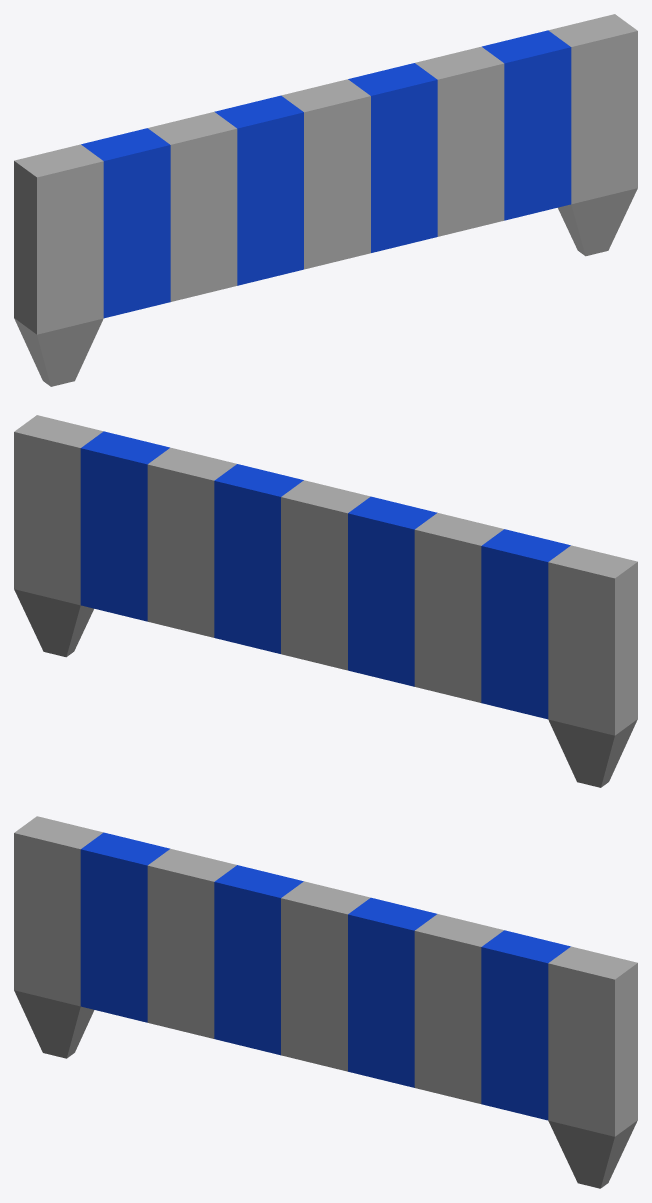
File: barrierl.fbx
3 views of the same model, one above another, from view 1: azimuth 30°, elevation 25°; view 2: azimuth 150°, elevation 25°; view 3: azimuth 330°, elevation 25° (orthographic).
Visible parts, largest first — view 1: Cube; view 2: Cube; view 3: Cube.
Boxes of the visible parts, x1,y1,x2,y2 form: Cube: (14,14,637,386); Cube: (14,415,637,787); Cube: (14,816,637,1188).
Size of the model in its own units: 800 by 280 by 53.09.
